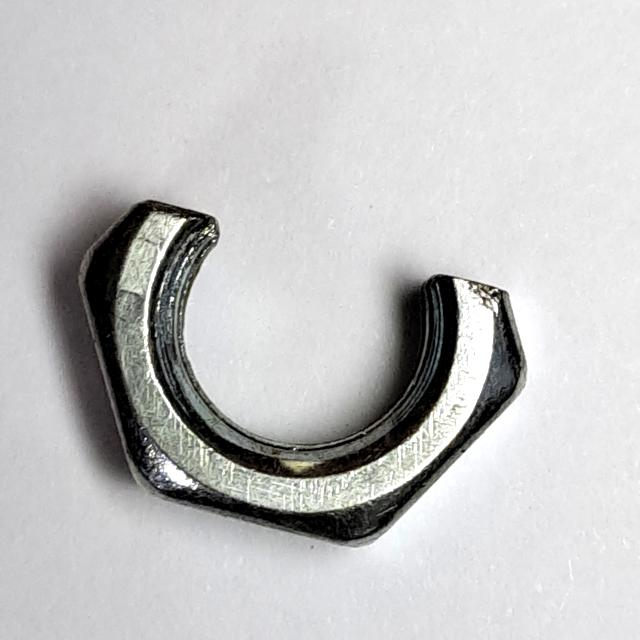Fracture: (70, 188, 541, 558)
